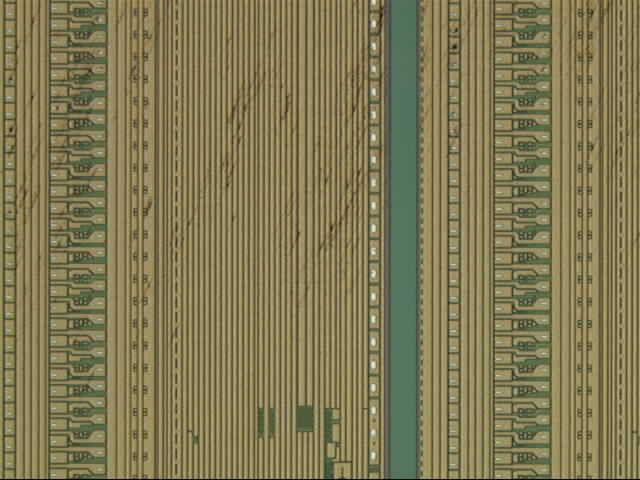SCRATCH: (168, 38, 399, 268)
